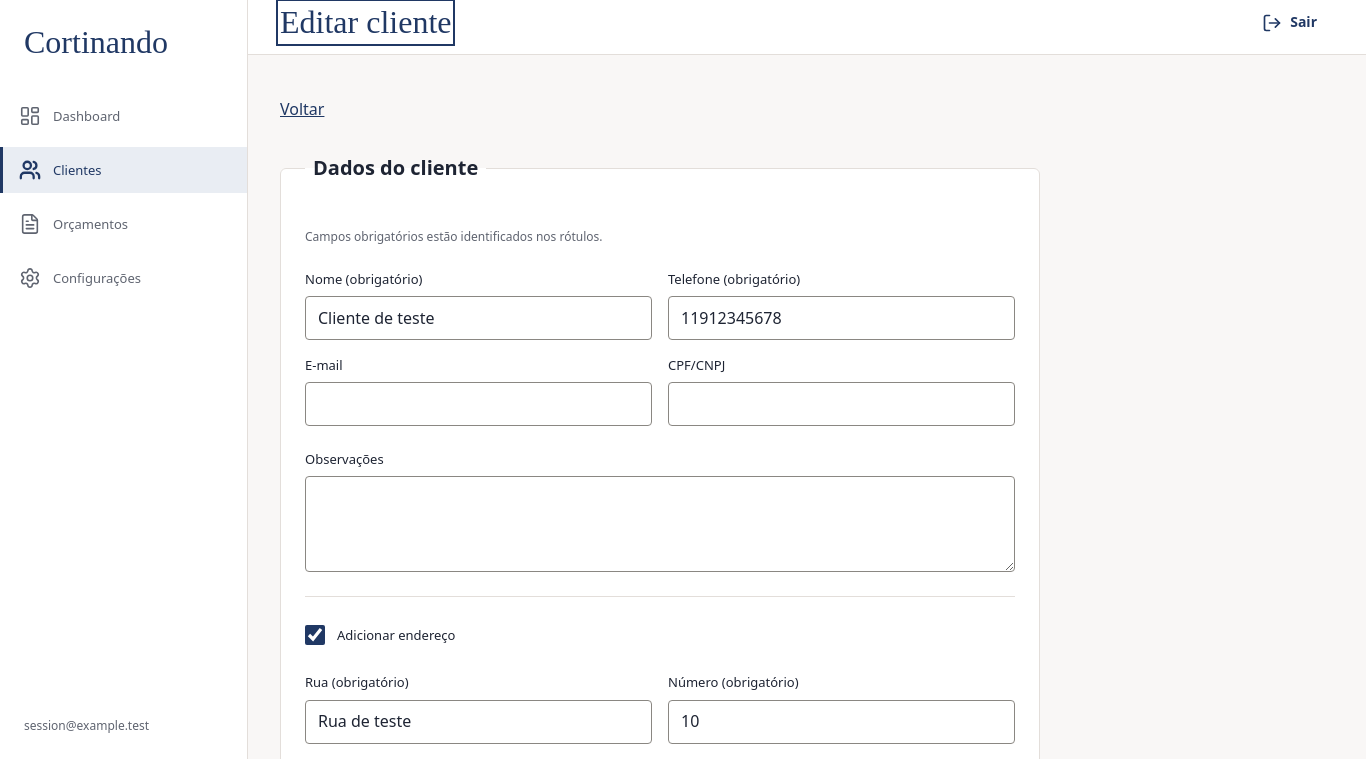
loads edit defaults, avoids empty PATCH and uses server detail as the new baseline
The image size is (1366, 759).
Expected: the switch is checked, top-left (305, 625), bottom-right (325, 645)
Replace the text in the field labelled "Nome (obrigatório)" with "Changed". click: (478, 318)
box: top-left (305, 296), bottom-right (652, 340)
(page scrolled)
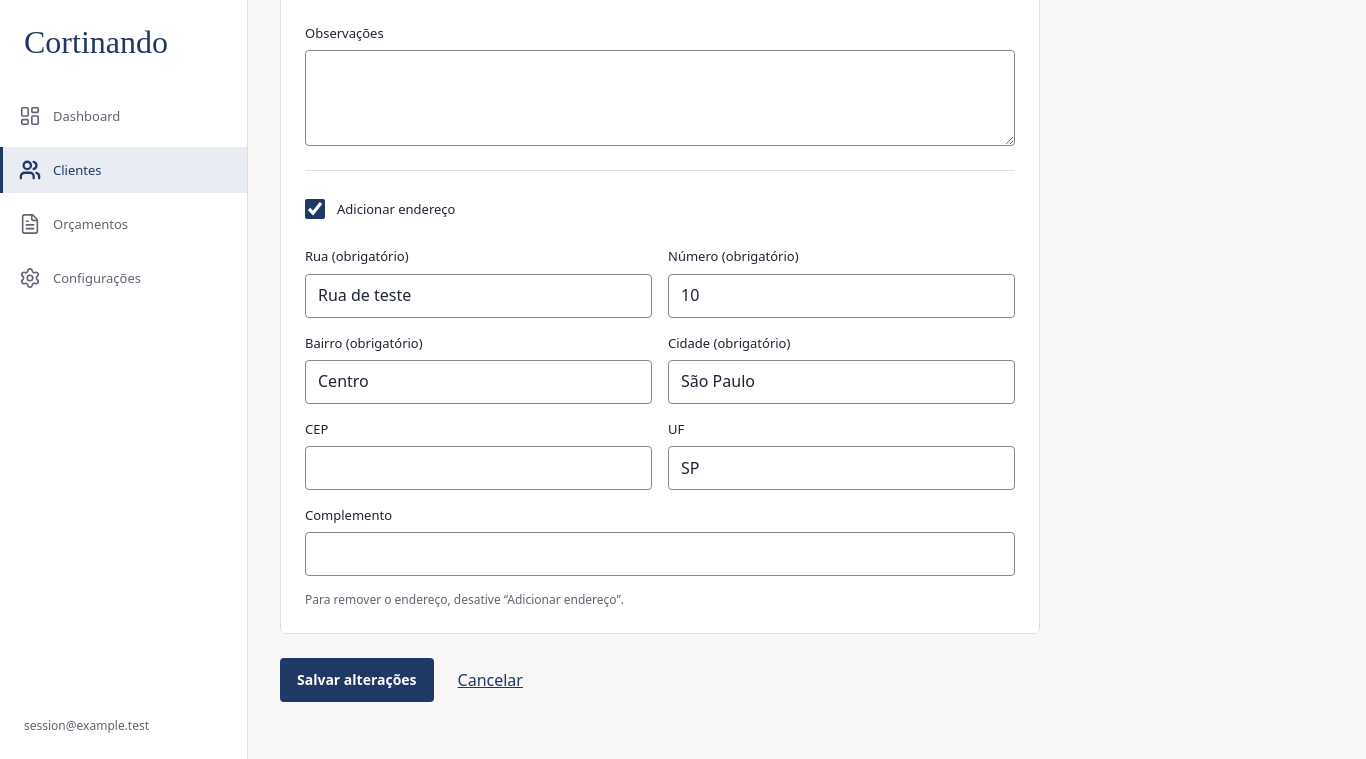
Click the button "Salvar alterações". click: (357, 680)
box: top-left (280, 658), bottom-right (434, 702)
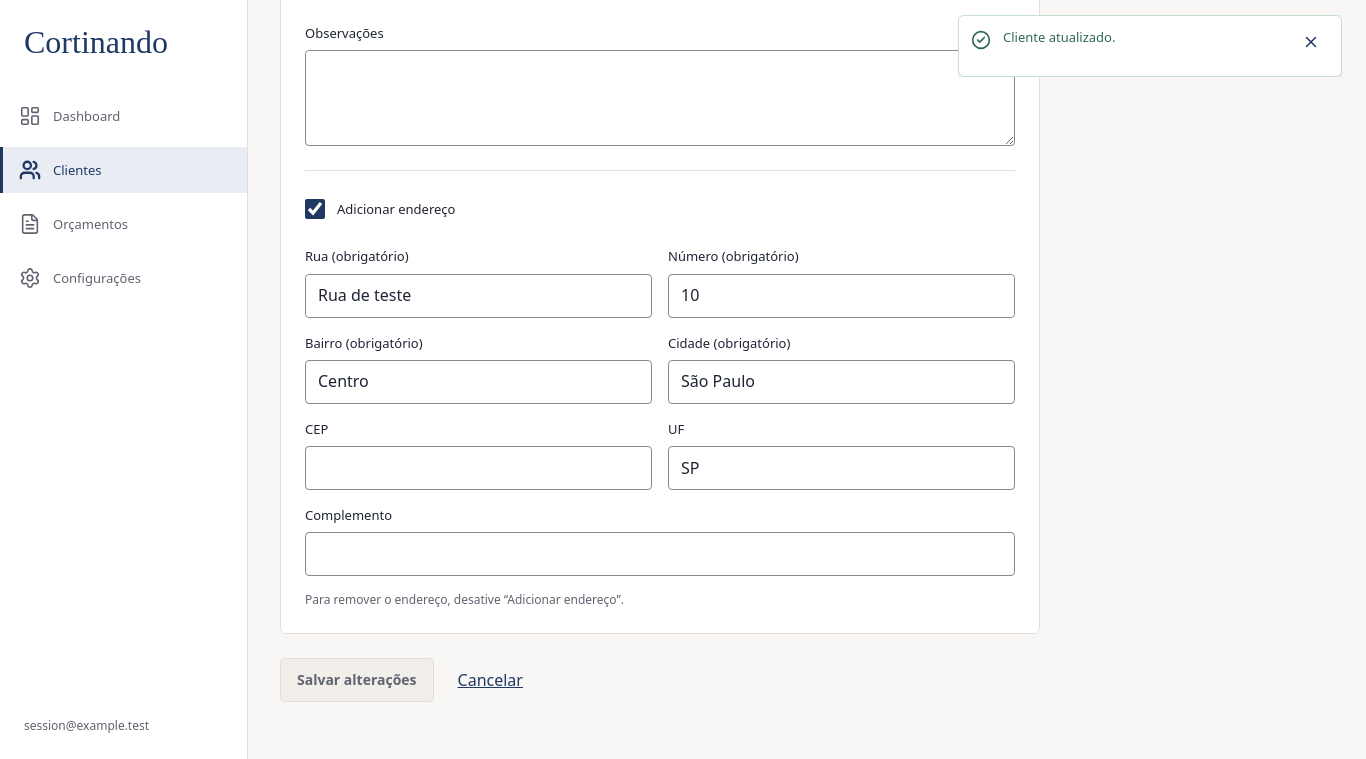
Result: the text "Cliente atualizado." is shown at top-left (1003, 28), bottom-right (1116, 46)
Result: the button "Salvar alterações" is disabled at top-left (280, 658), bottom-right (434, 702)
